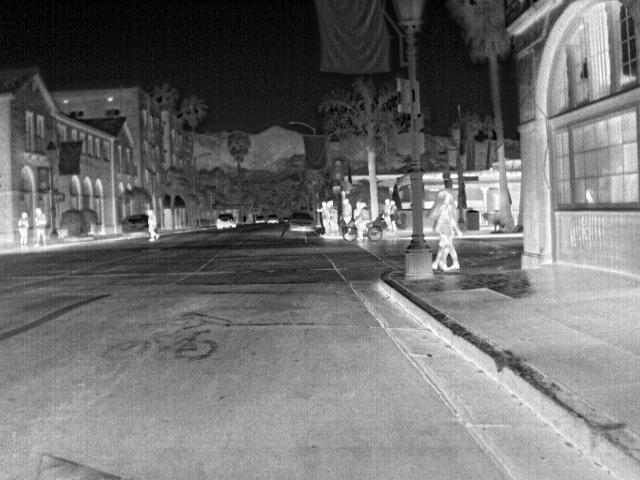car: (286, 212, 317, 236), (121, 214, 147, 234), (214, 211, 236, 228), (266, 213, 281, 226), (253, 214, 268, 225)
person: (433, 194, 461, 272), (352, 199, 371, 239), (314, 199, 333, 236), (31, 206, 47, 248), (144, 205, 162, 242), (14, 212, 31, 246), (386, 198, 401, 230), (380, 197, 393, 232), (339, 196, 353, 226)
